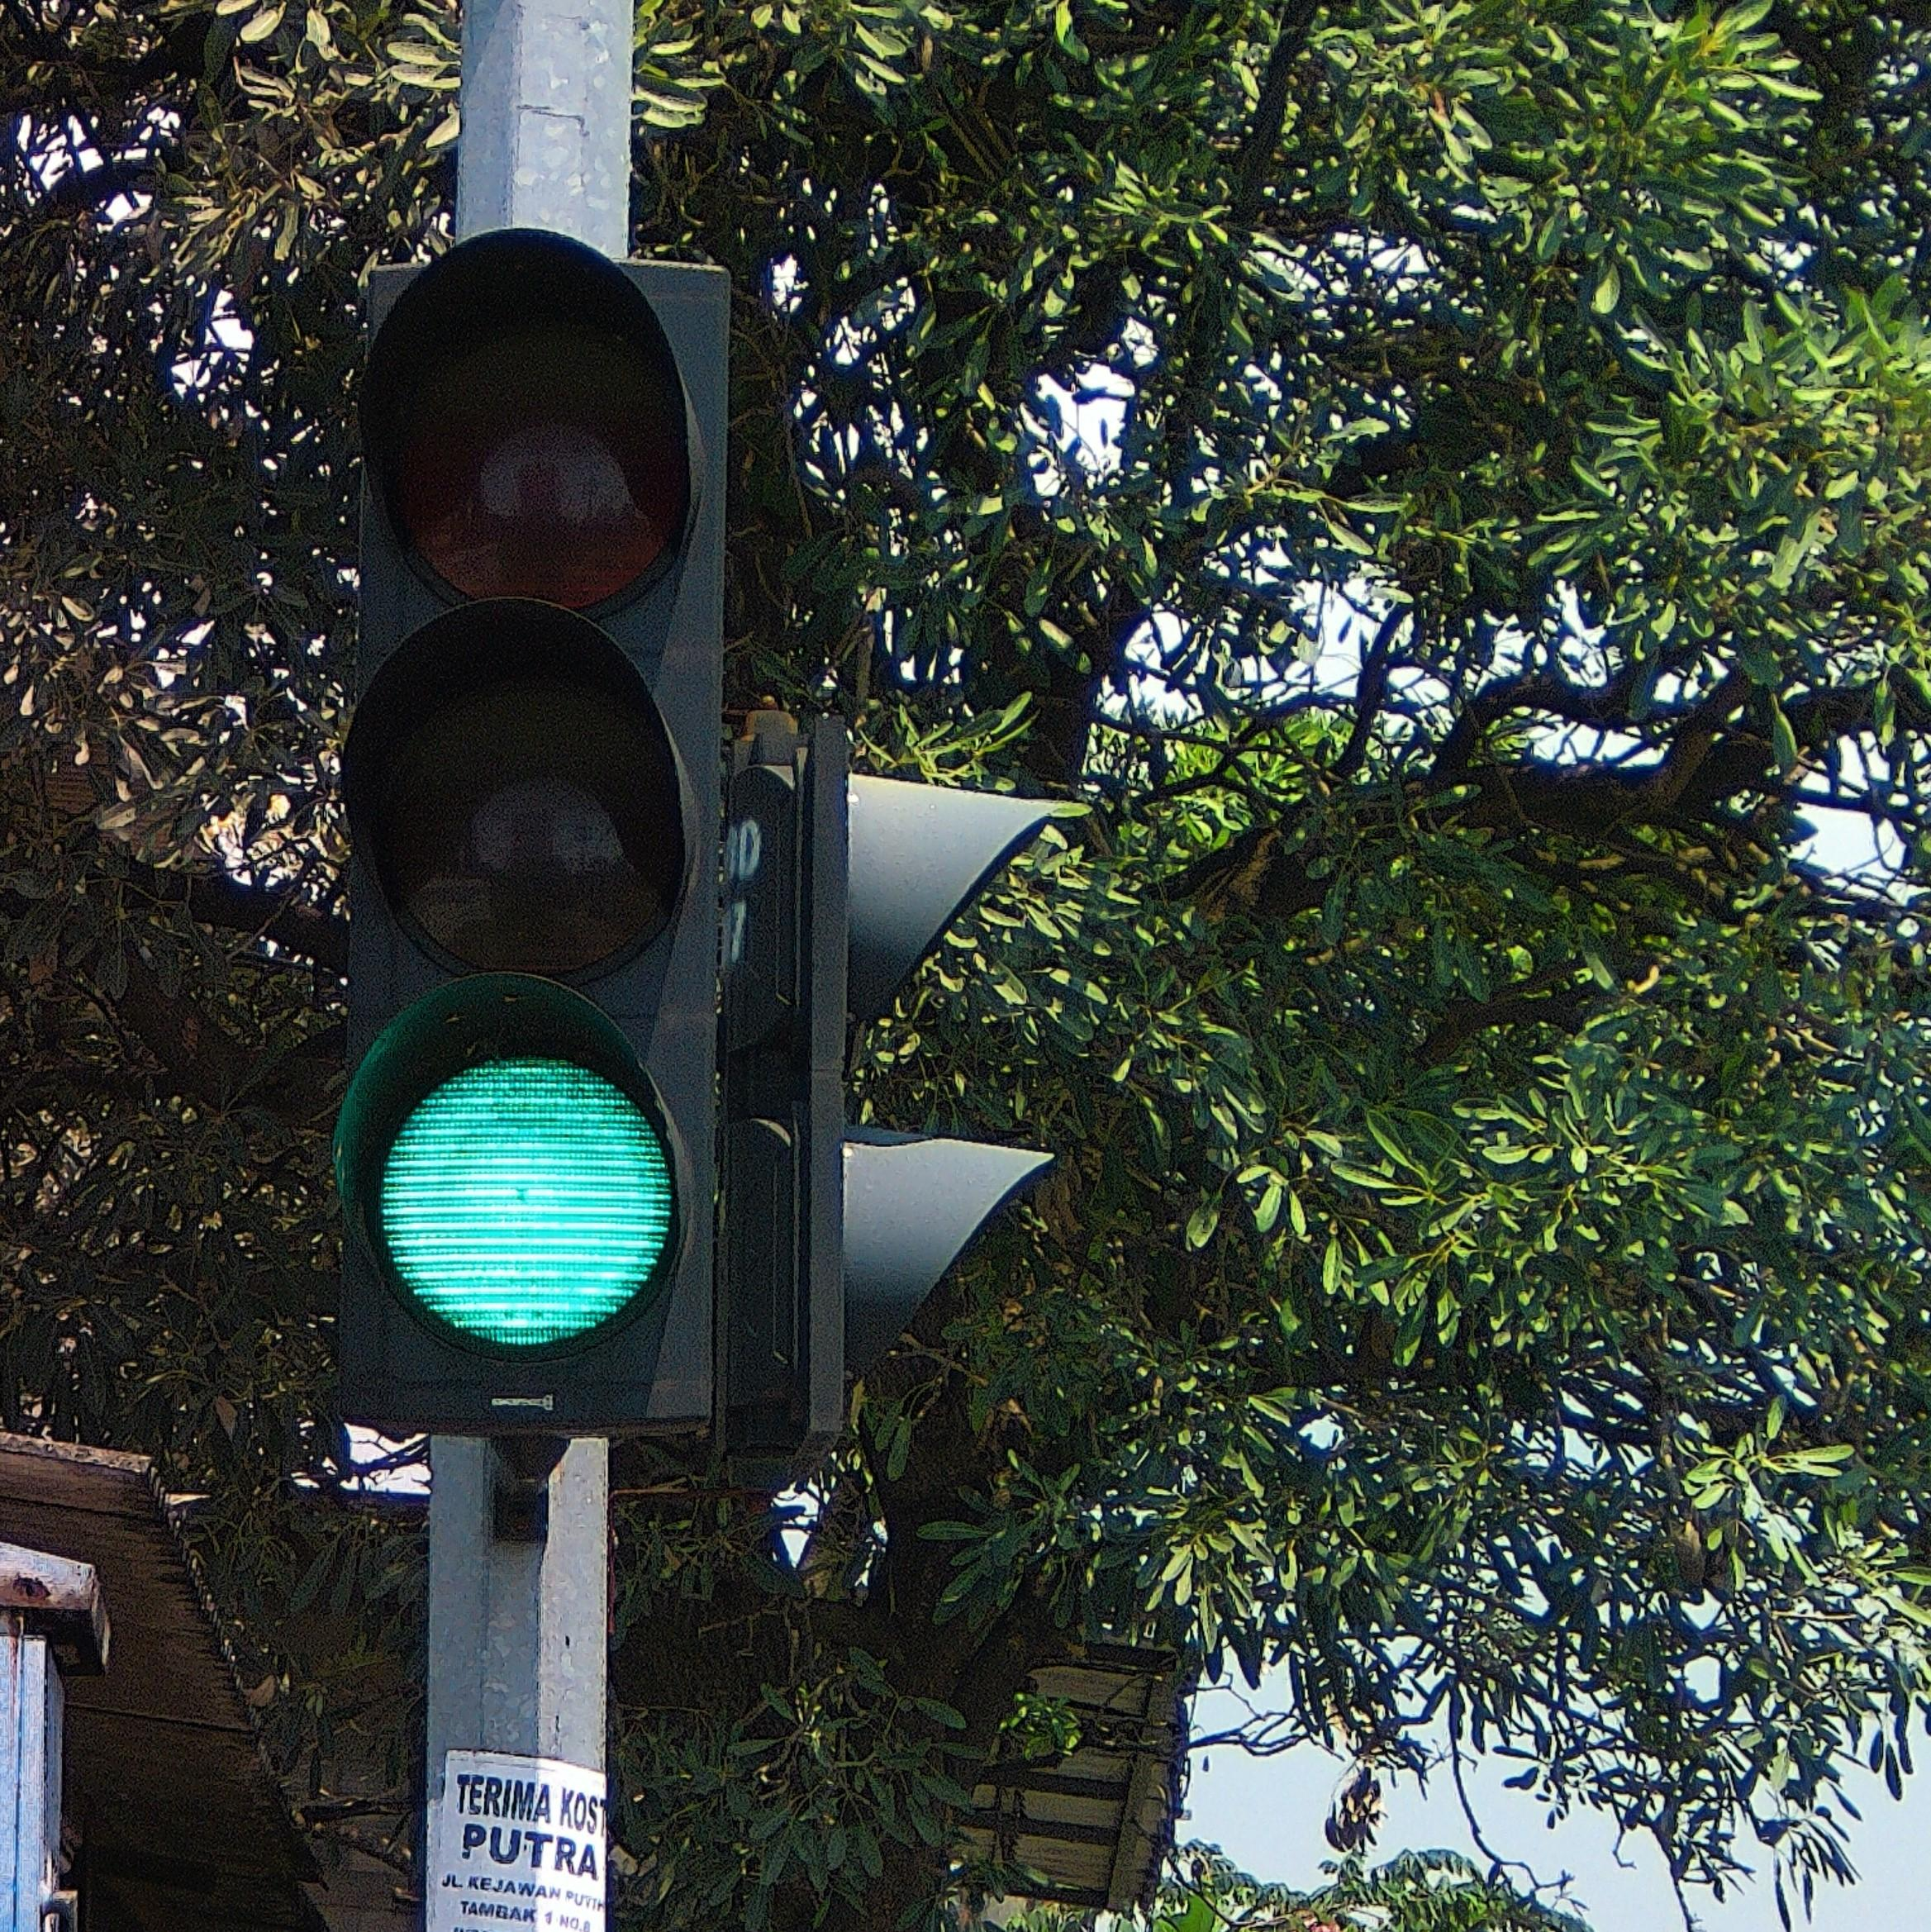green_light: (331, 225, 737, 1426)
